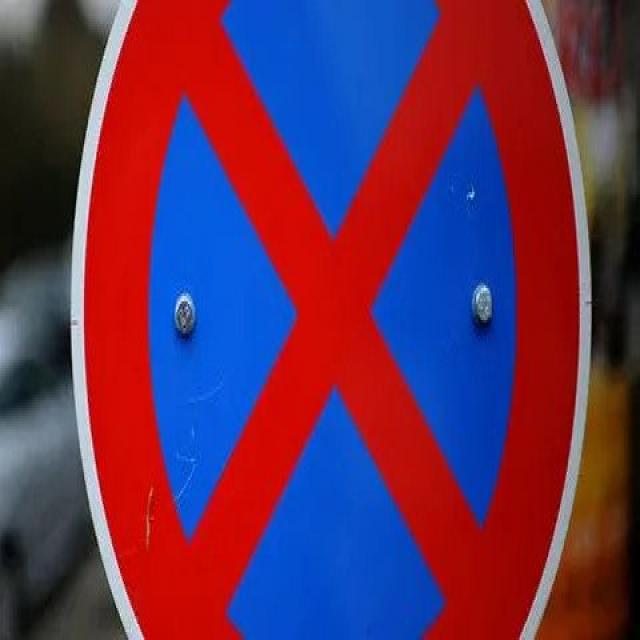no stopping: (62, 0, 596, 640)
